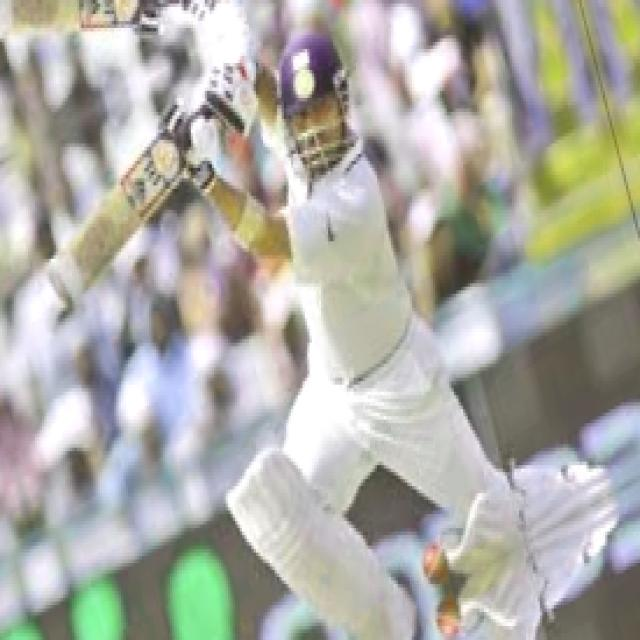toe: (35, 251, 91, 313)
